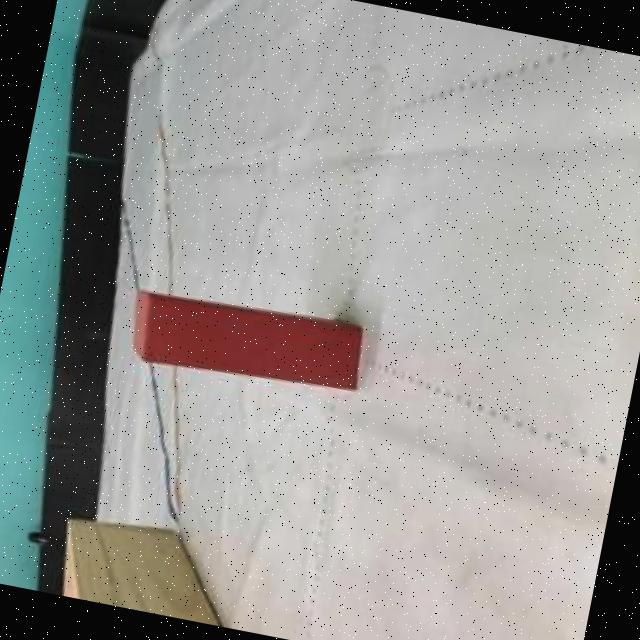redbox: (120, 287, 368, 401)
